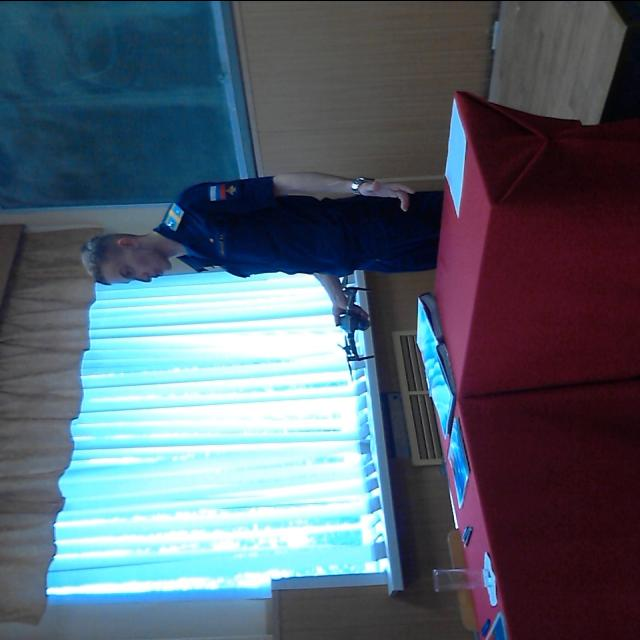drone: (314, 271, 378, 375)
